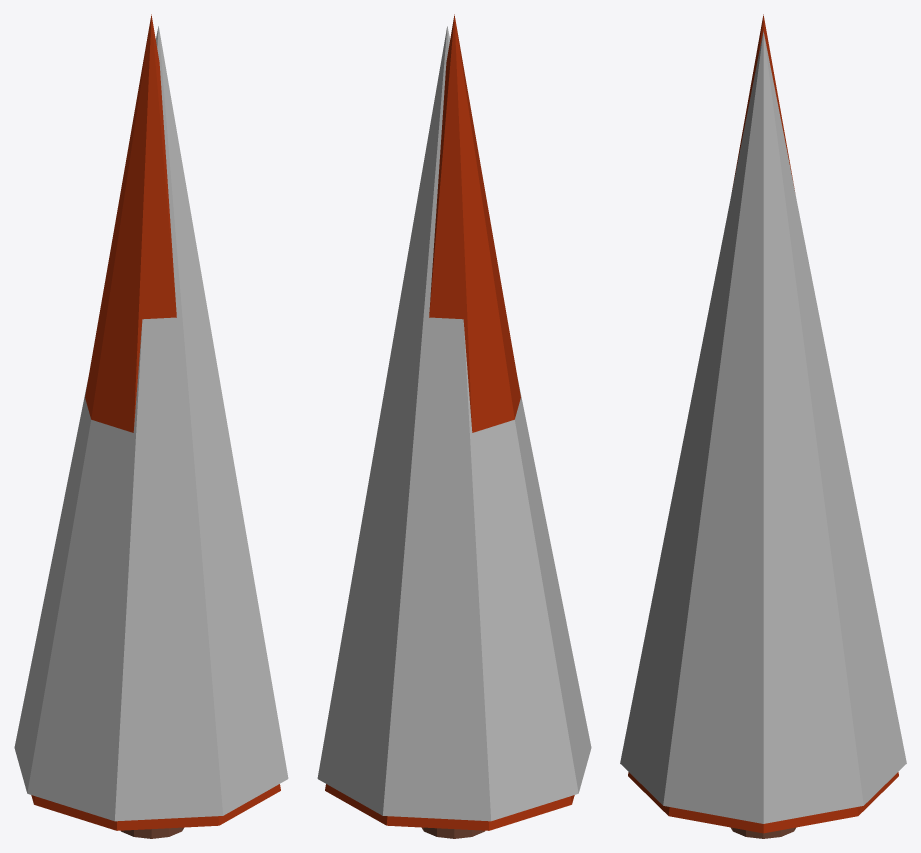
Rendered from Tree_24_winter_red_vc.fbx.
3 renders of one model, left to right at view 1: azimuth 30°, elevation 25°; view 2: azimuth 150°, elevation 25°; view 3: azimuth 270°, elevation 25°, orthographic.
Visible parts, largest first — view 1: Tree_24_winter_red_vc; view 2: Tree_24_winter_red_vc; view 3: Tree_24_winter_red_vc.
Part boxes in pixels (bbox=[...]): Tree_24_winter_red_vc: bbox=[14, 14, 288, 838]; Tree_24_winter_red_vc: bbox=[317, 14, 591, 838]; Tree_24_winter_red_vc: bbox=[620, 14, 906, 838].
Bounding box in the file's own units: 90.22 × 281 × 90.22.
